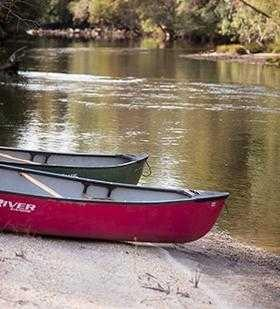kayak: (1, 149, 229, 245), (1, 146, 149, 185)
